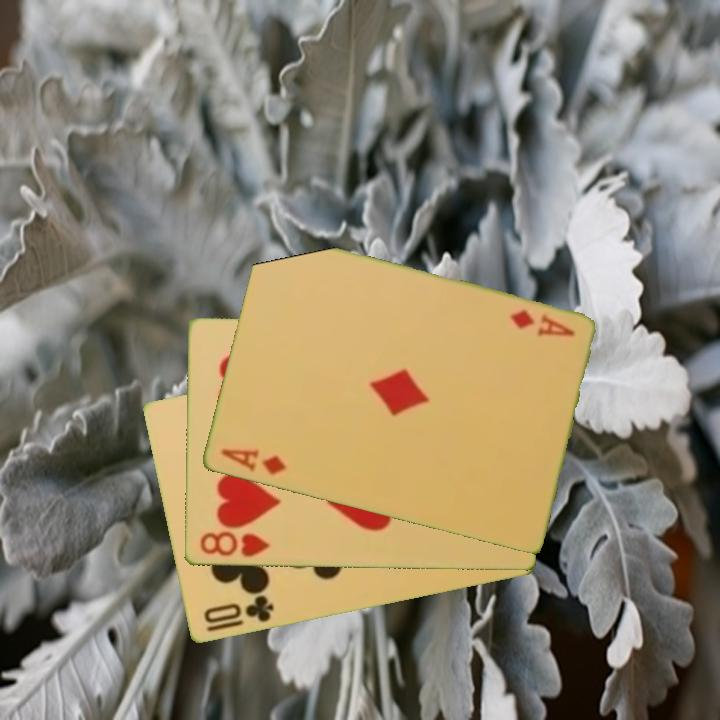10c: (200, 591, 277, 627)
8h: (196, 528, 272, 560)
Ad: (216, 445, 289, 479), (505, 306, 578, 340)
